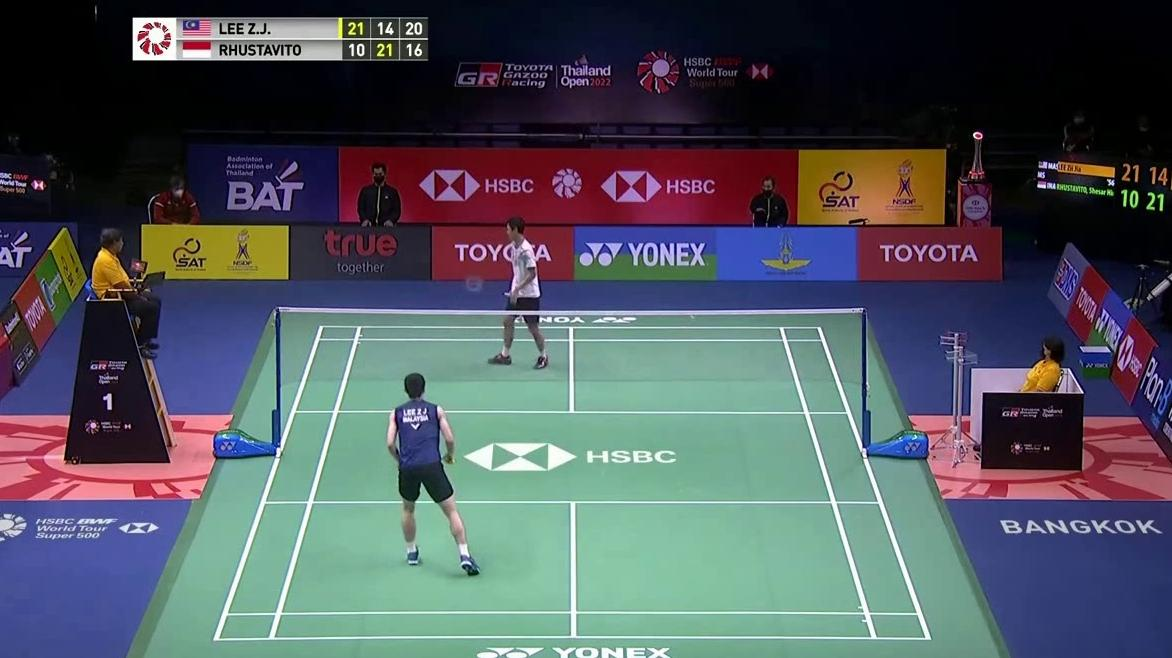racket: (459, 274, 513, 298), (440, 451, 461, 470)
shuttle: (688, 312, 699, 320)
